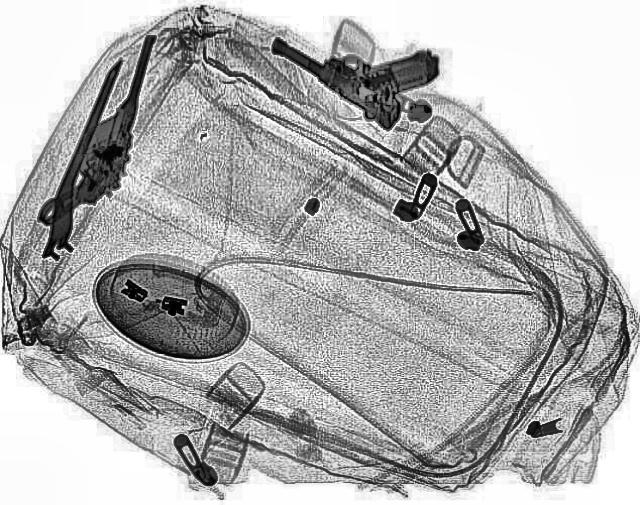Gun: (36, 26, 162, 232), (258, 0, 448, 132)
